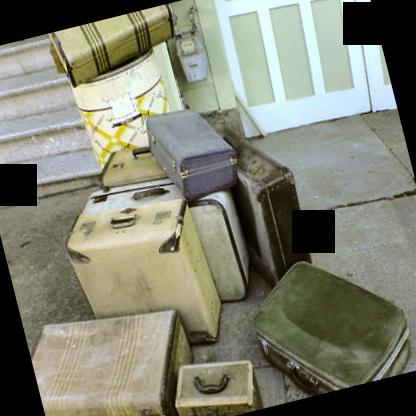suitcase: (63, 178, 223, 349), (248, 259, 414, 396), (32, 314, 193, 416), (215, 122, 312, 287), (47, 4, 175, 88), (147, 107, 241, 204), (191, 187, 251, 305), (177, 361, 265, 416), (97, 146, 171, 187)
